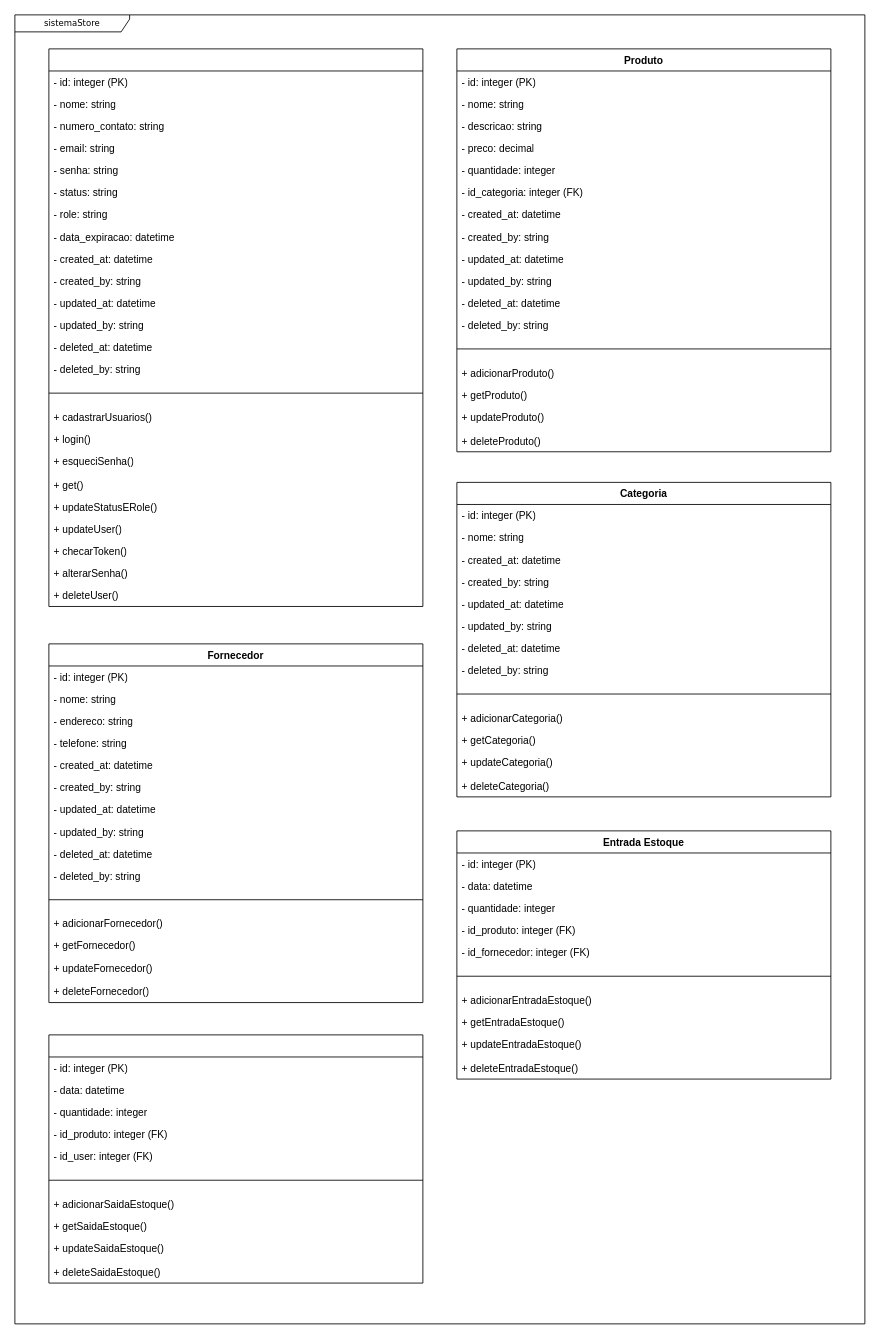
Image size: 880x1339. Some labels were removed from this diagram. The box of each missing label's shape, as (x1, y1, x2, y2) in pixels:
Saída Estoque: (48, 1034, 423, 1283)
Usuário: (48, 48, 423, 606)
